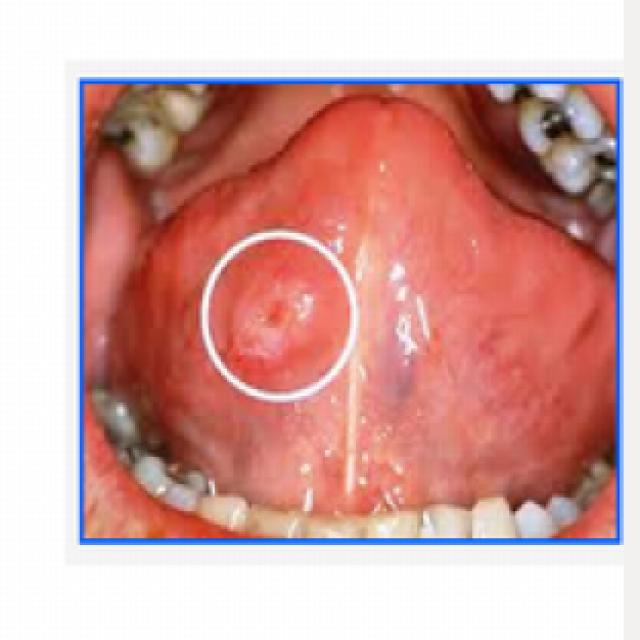left_region: (84, 86, 615, 536)
